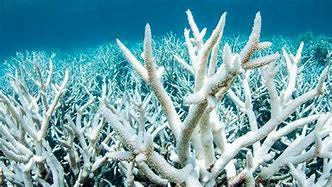bleached_corals: (58, 12, 332, 187), (0, 70, 69, 187)
